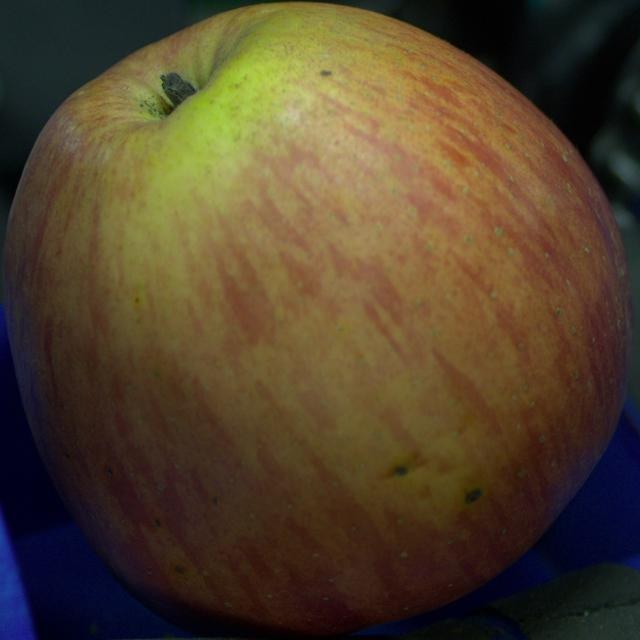apple: (4, 3, 632, 634)
pest: (465, 488, 482, 503), (392, 465, 408, 476), (174, 566, 184, 574), (321, 70, 331, 75), (154, 519, 161, 526), (107, 469, 112, 476)
